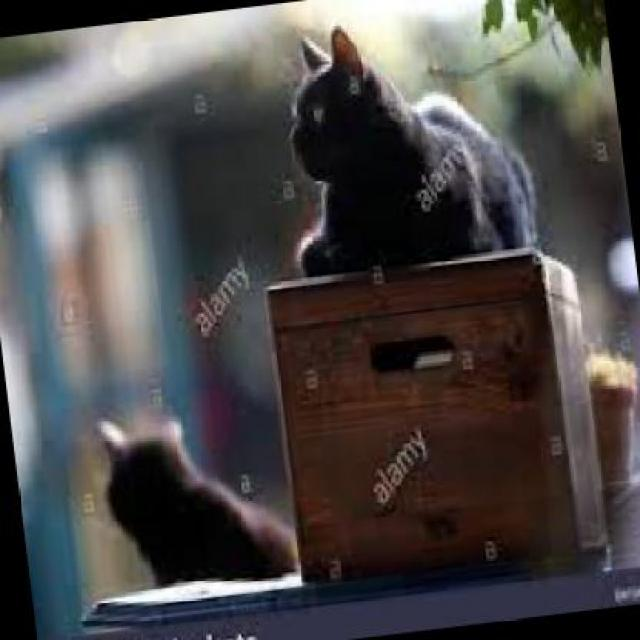animals: (256, 3, 572, 280), (81, 390, 292, 596)
